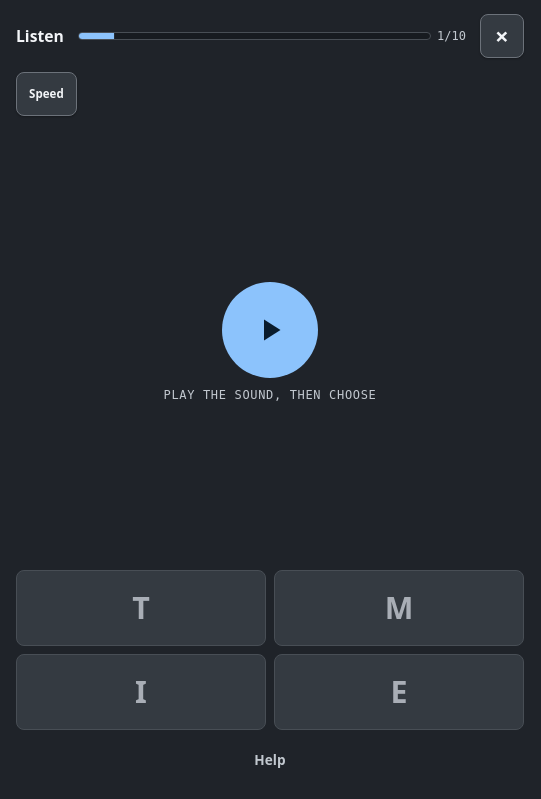
Test case: LetterPracticeRun four-choice recognition › holds a listen miss on one verdict until Continue, with a short tap-through guard
The image size is (541, 799).
Click the button named "Play Morse sound": (270, 330) [222,282,318,378]
Wait 100 ms
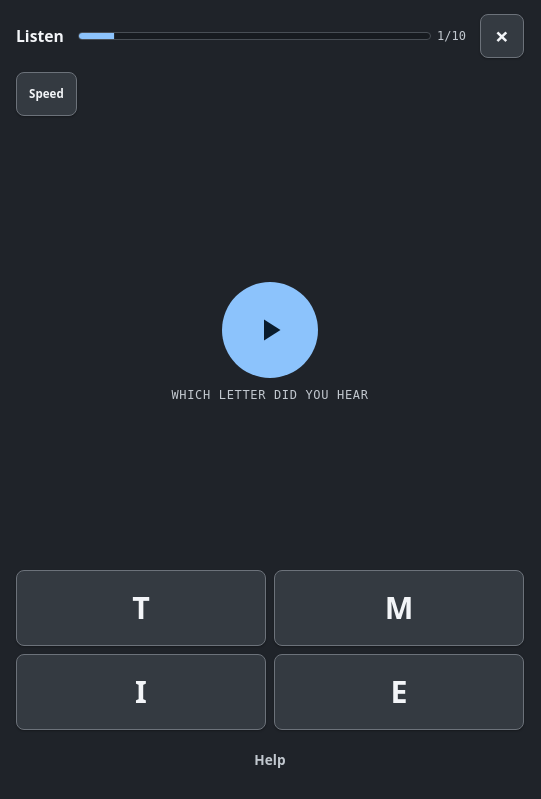
Click the button "T": (141, 608) [16,570,266,646]
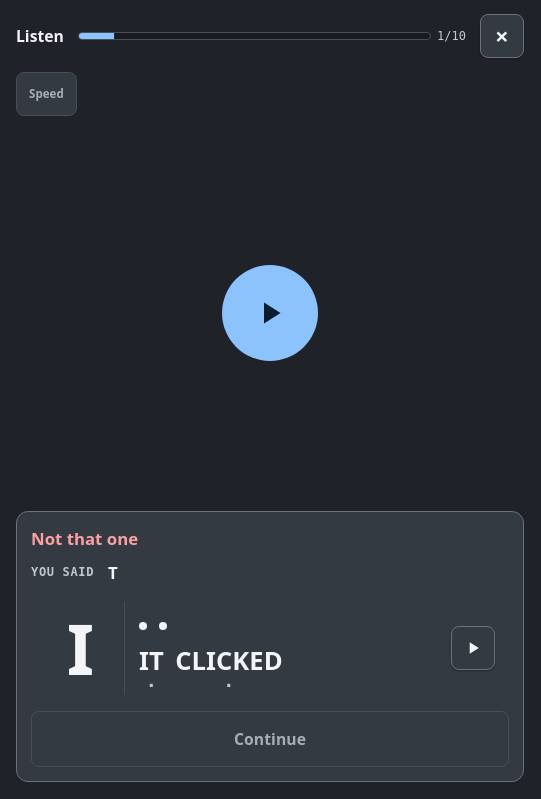
Result: the message shows "Not that one" at [31,526,138,550]
Result: the text with class "session-miss-said-value" reads "T" at [108,560,118,584]
Result: the button "Continue" is disabled
Click the button "Continue": (270, 739) [31,711,509,767]
Wait 30400 ms
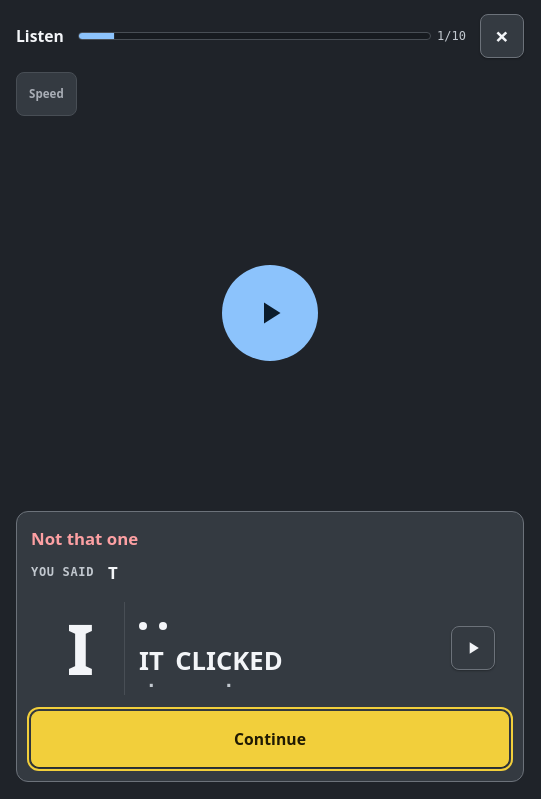
Expected: the progress indicator named "1 of 10" is shown, [78,32,431,40]
Result: the button "Continue" is shown
Result: the button "Continue" is enabled
Click the button "Continue": (270, 739) [31,711,509,767]
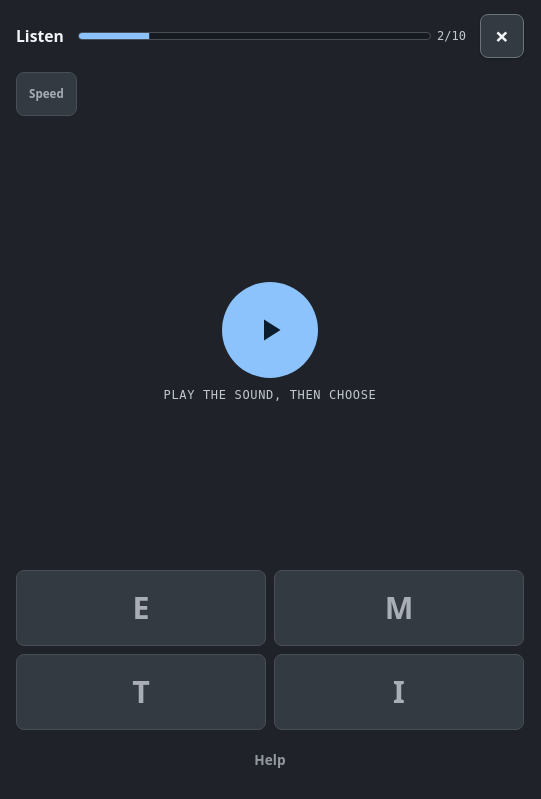
Result: the progress indicator named "2 of 10" is shown at [78,32,431,40]
